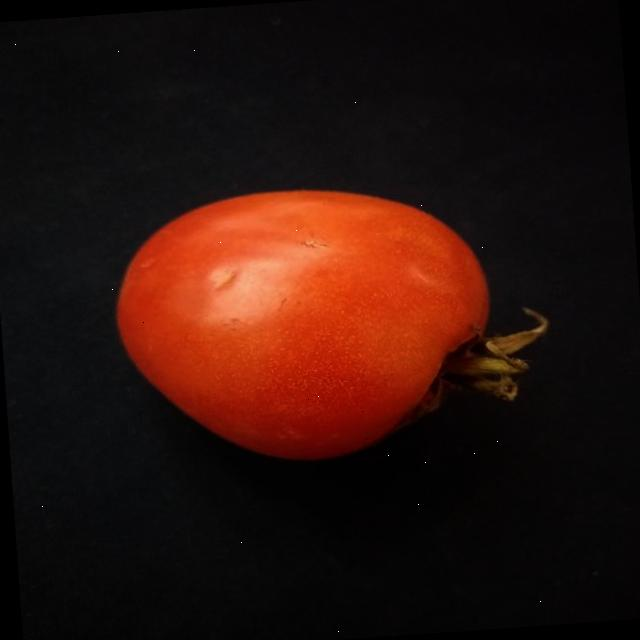tomato: (100, 162, 538, 490)
